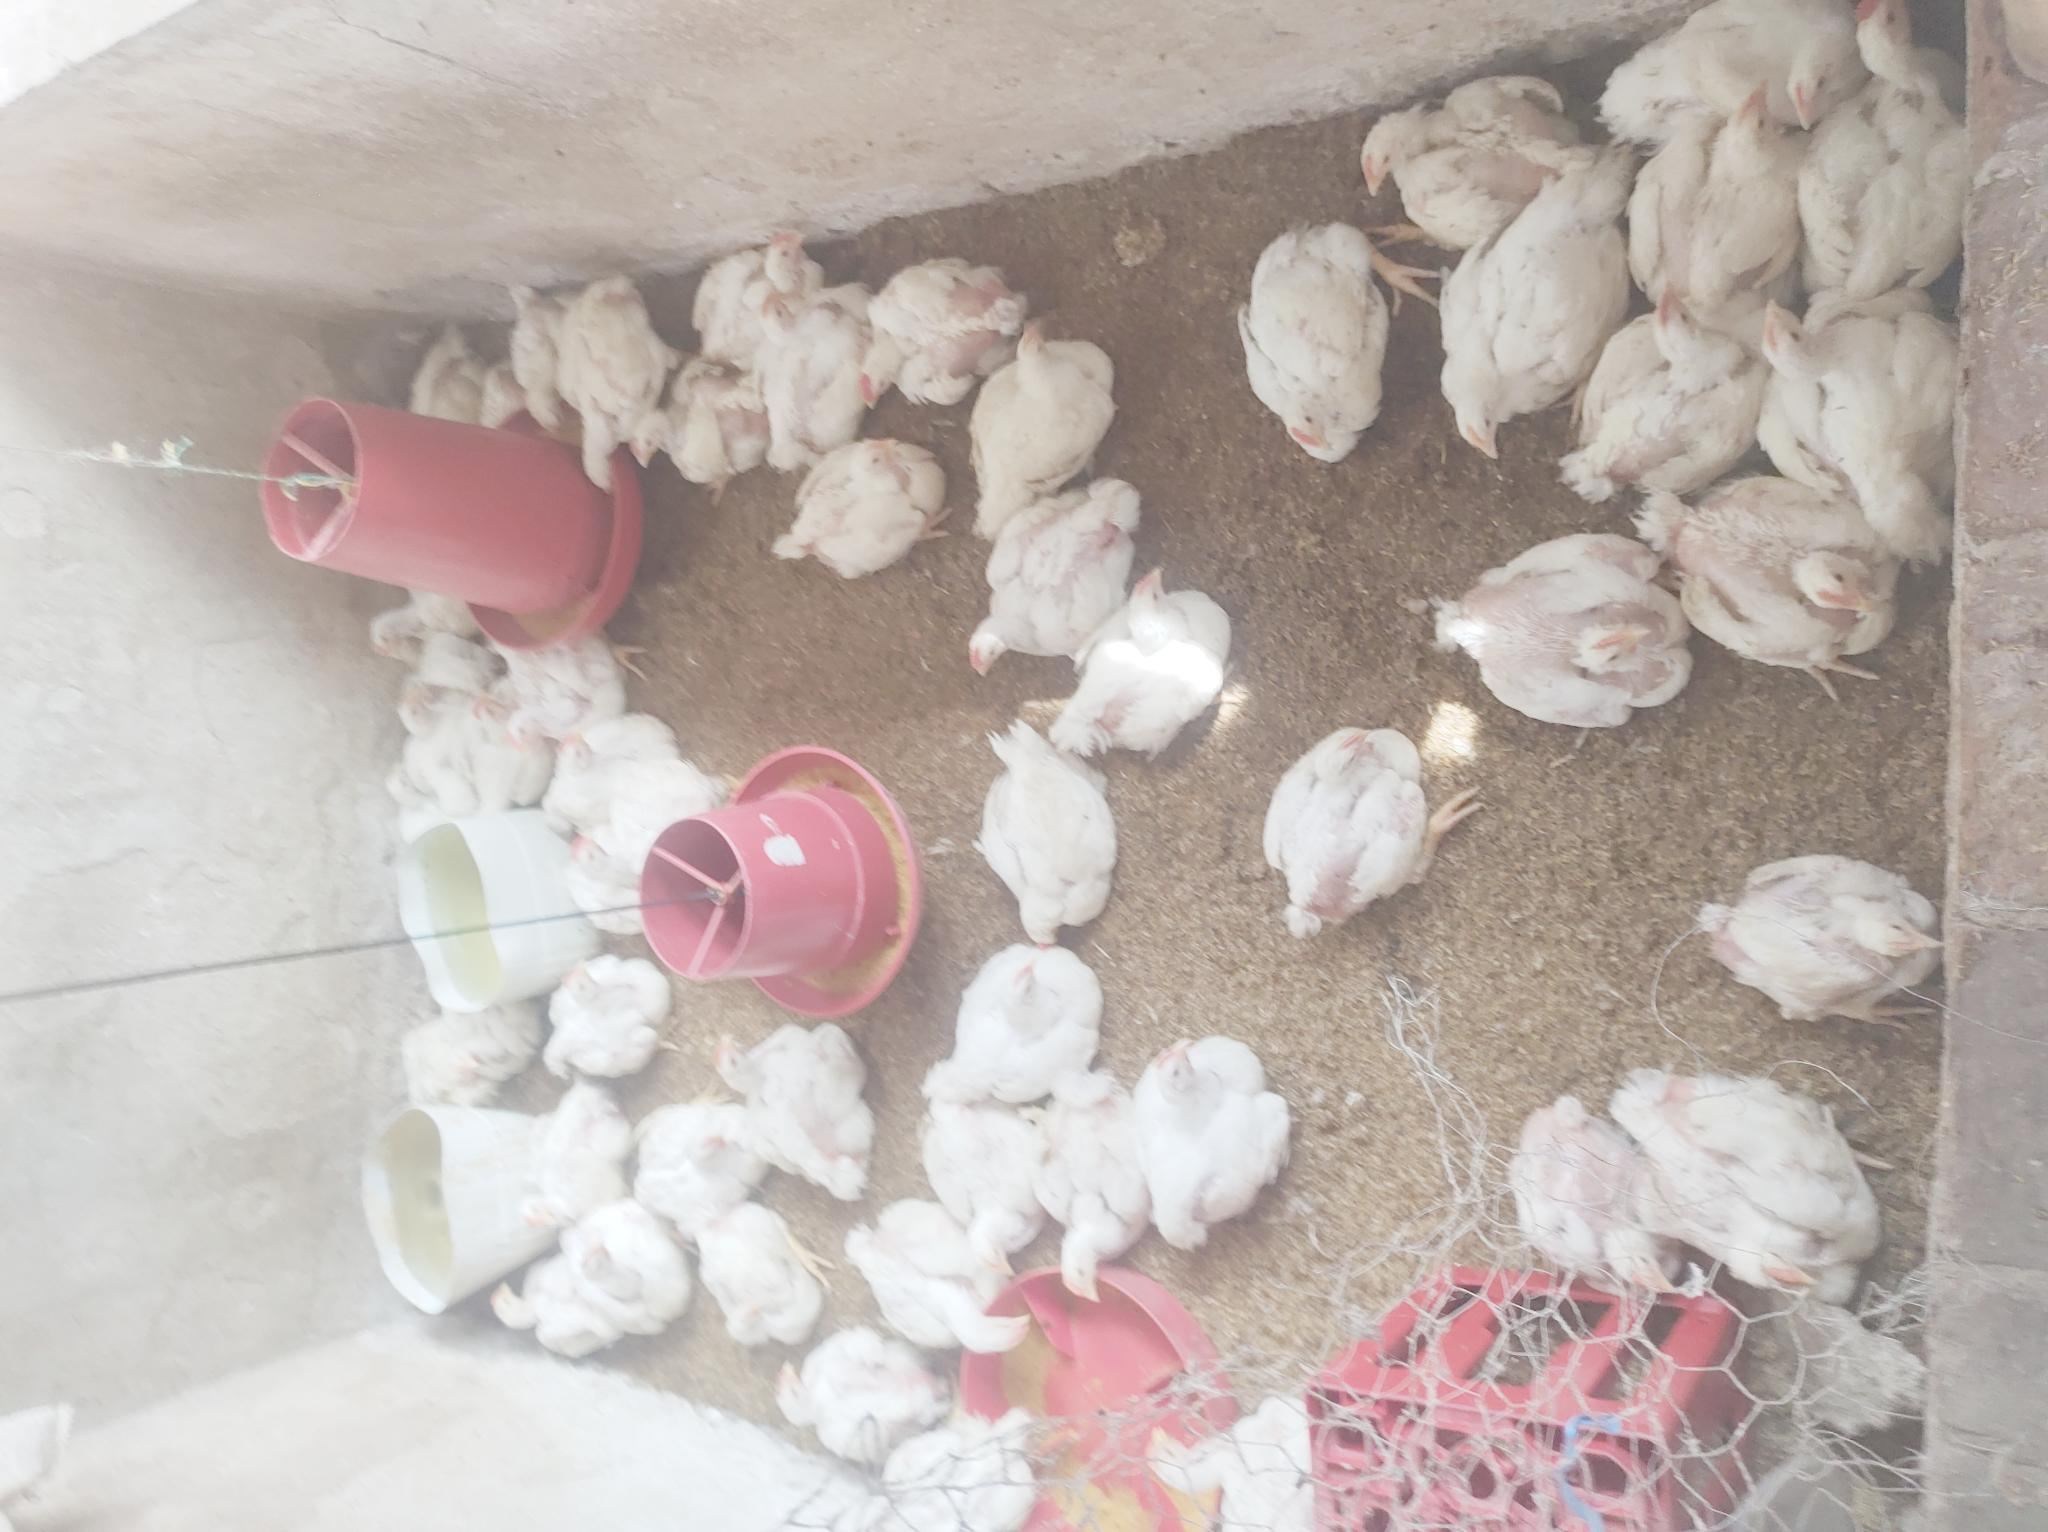Pollos: (1630, 1038, 1898, 1324), (1435, 138, 1631, 468), (1795, 0, 1977, 312), (1754, 282, 1987, 523), (1686, 822, 1945, 1038), (1425, 523, 1697, 727), (1680, 483, 1903, 723), (1261, 724, 1487, 949), (1630, 80, 1834, 327), (1134, 1019, 1306, 1291), (1569, 286, 1760, 517), (1232, 220, 1409, 468), (1038, 566, 1248, 763), (536, 745, 742, 935), (1606, 0, 1866, 146), (965, 480, 1154, 679), (968, 718, 1131, 945), (1350, 69, 1573, 233), (1491, 1099, 1659, 1310), (965, 335, 1123, 547), (442, 1217, 681, 1357), (843, 1199, 1054, 1353), (701, 1025, 886, 1196), (767, 430, 959, 592), (933, 945, 1108, 1109), (1174, 1347, 1322, 1532), (857, 259, 1031, 414), (1041, 1062, 1142, 1316), (566, 261, 677, 489), (386, 974, 541, 1125), (766, 1324, 967, 1440), (742, 301, 875, 472), (883, 1403, 1063, 1529), (685, 204, 841, 349), (619, 352, 769, 502), (695, 1223, 829, 1357), (533, 964, 668, 1094), (631, 1106, 769, 1229), (906, 1106, 1038, 1226), (362, 570, 500, 663), (405, 303, 489, 447), (537, 827, 639, 941), (513, 649, 629, 745), (512, 267, 570, 439), (362, 764, 457, 835), (476, 686, 545, 752), (375, 690, 462, 735)
